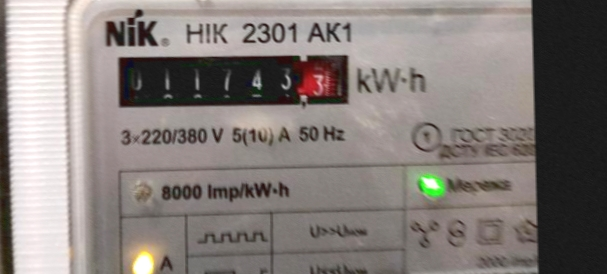0: (128, 63, 142, 92)
1: (189, 62, 201, 90), (160, 63, 170, 90)
3: (278, 63, 292, 90), (309, 71, 323, 96)
4: (248, 63, 262, 91)
7: (218, 61, 233, 90)
screen: (105, 39, 360, 119)
